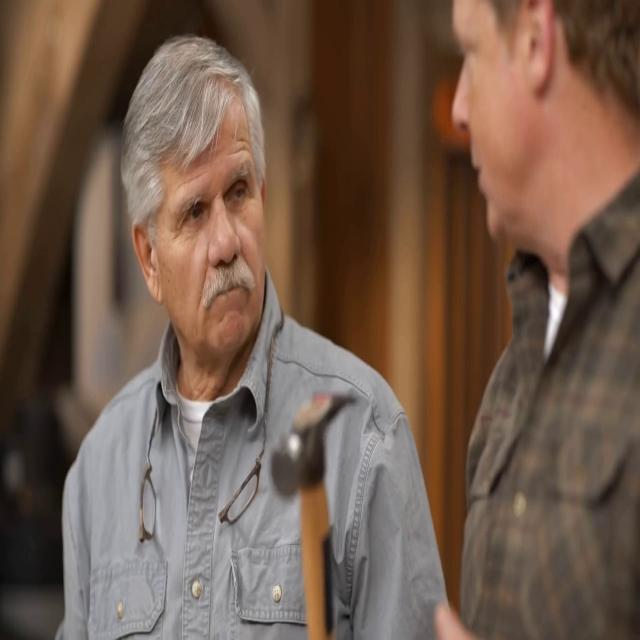hammer: (270, 393, 358, 640)
